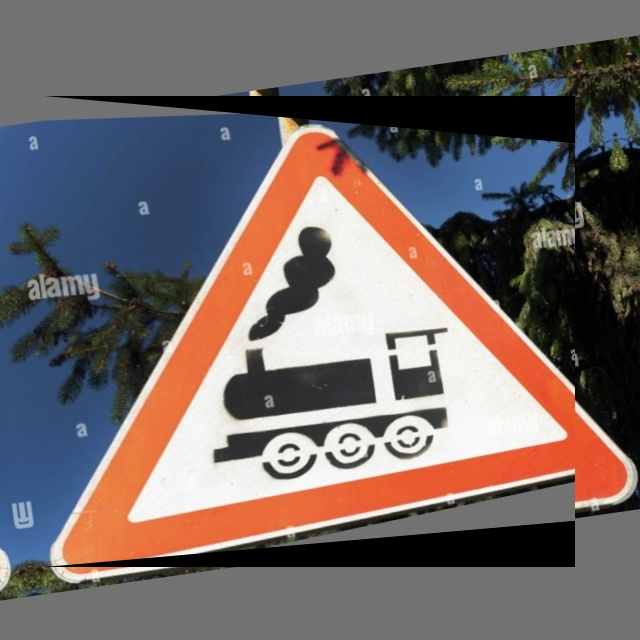Unguarded_Level_Crossing: (44, 96, 575, 567)
